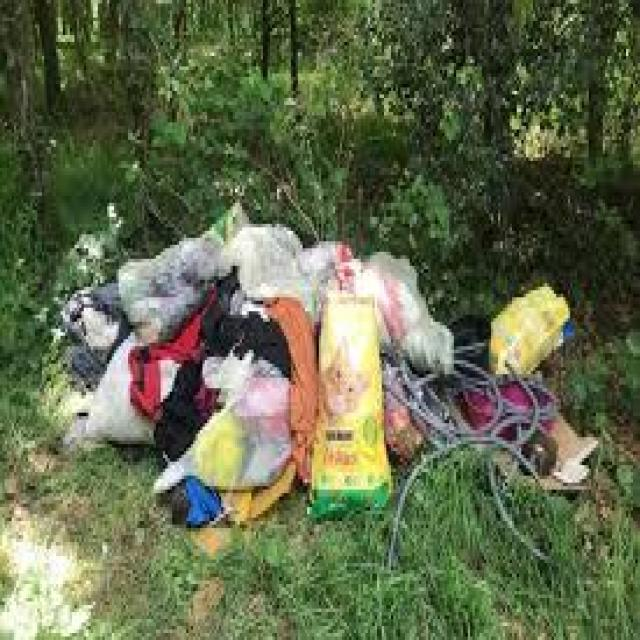garbage: (54, 185, 614, 522)
